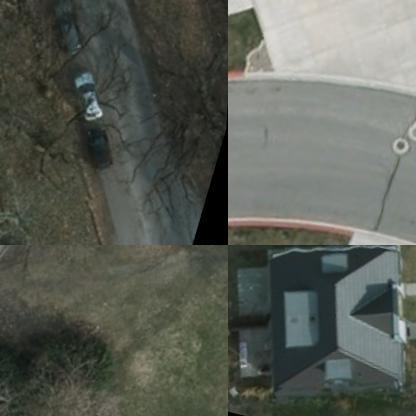car: (46, 0, 104, 53), (70, 66, 120, 122), (80, 116, 128, 166)
